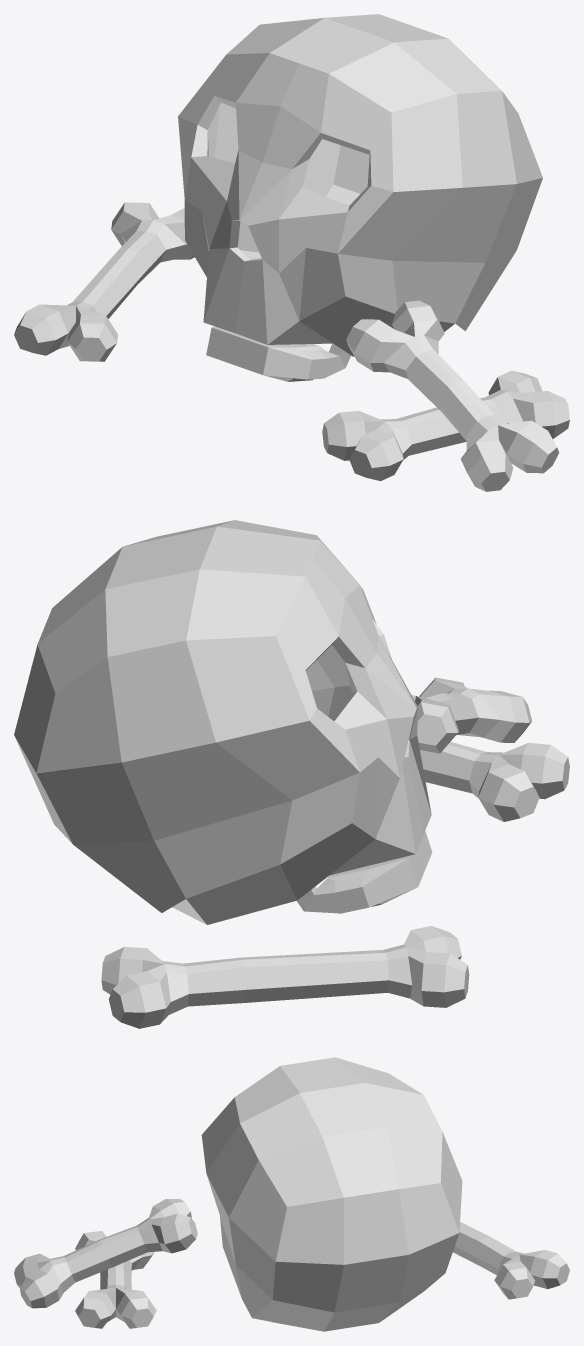
Rendered from Skeleton 2.fbx.
The picture shows the model from 3 angles, top to bottom: view 1: azimuth 30°, elevation 25°; view 2: azimuth 150°, elevation 25°; view 3: azimuth 270°, elevation 25°; orthographic projection. The views are drawn at different scales.
Parts seen in each view (by area): view 1: Skeleton 2; view 2: Skeleton 2; view 3: Skeleton 2.
Part boxes in pixels (x1,y1,x2,y2): Skeleton 2: (14,14,569,491); Skeleton 2: (14,520,569,1028); Skeleton 2: (14,1057,569,1331).
Size of the model in its own units: 14.65 by 9.65 by 21.21.
